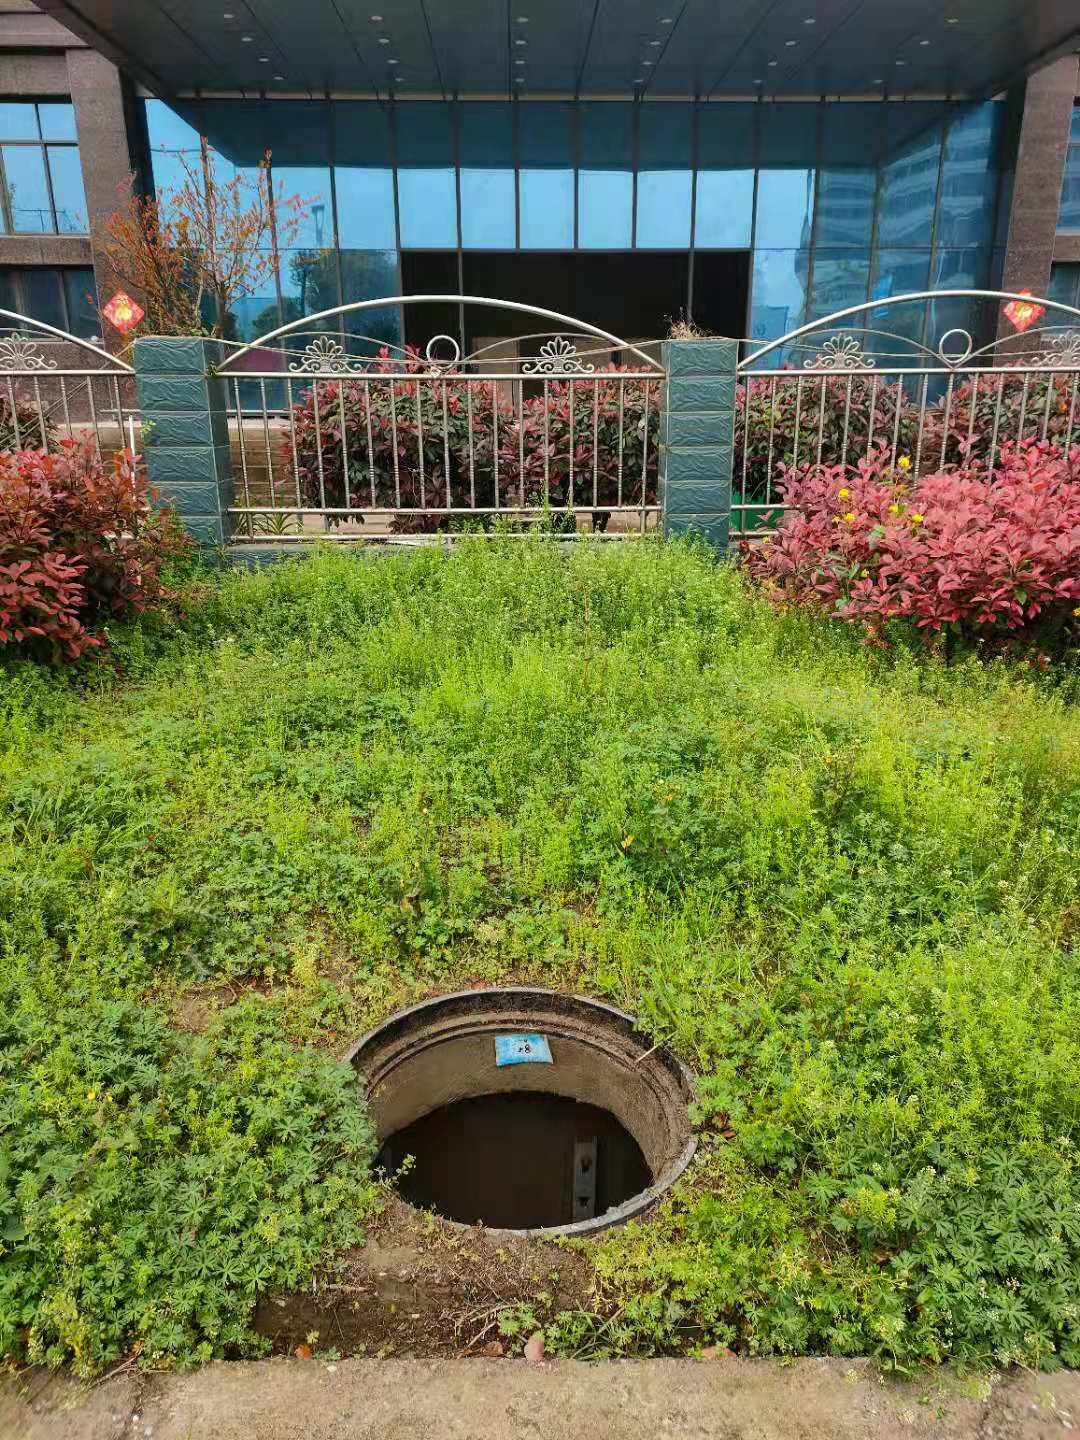lose: (324, 981, 702, 1238)
